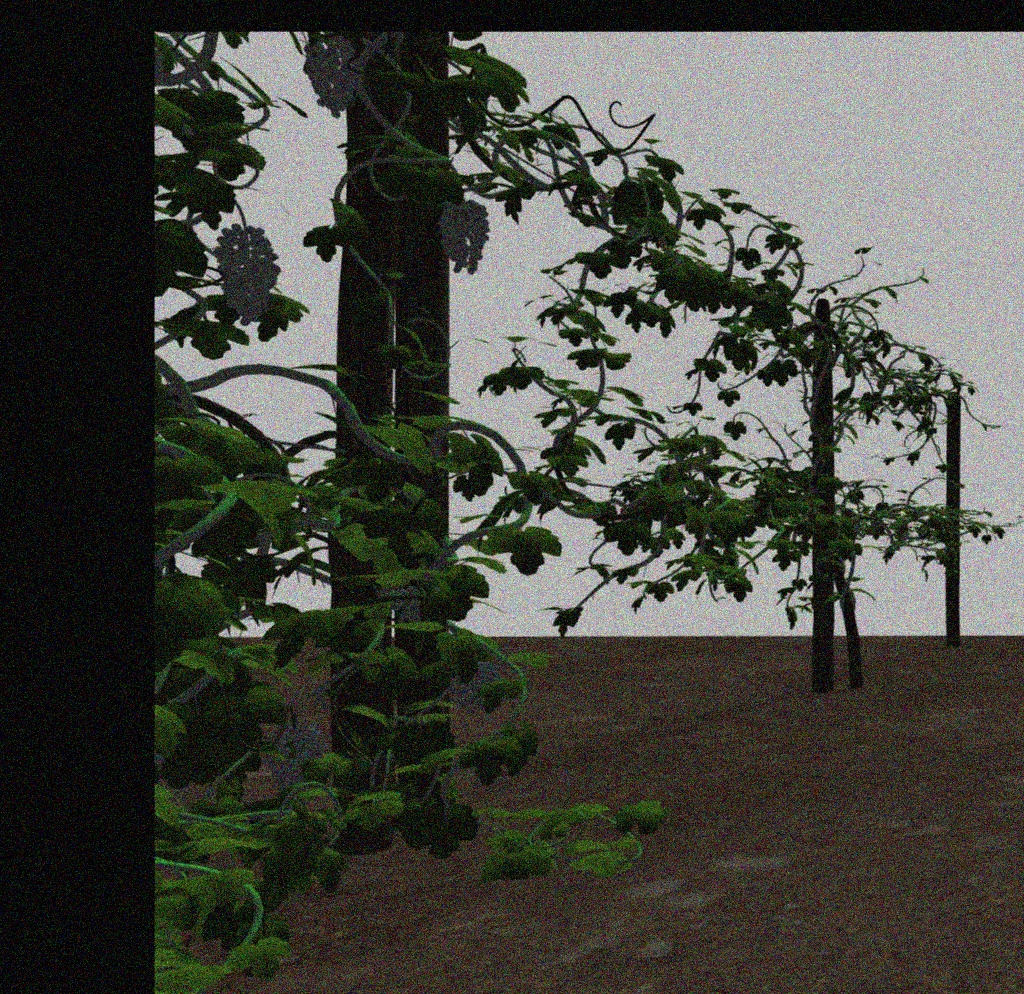grape: (214, 223, 280, 328), (302, 32, 362, 118), (265, 721, 323, 794), (436, 199, 490, 274), (453, 658, 501, 714)
